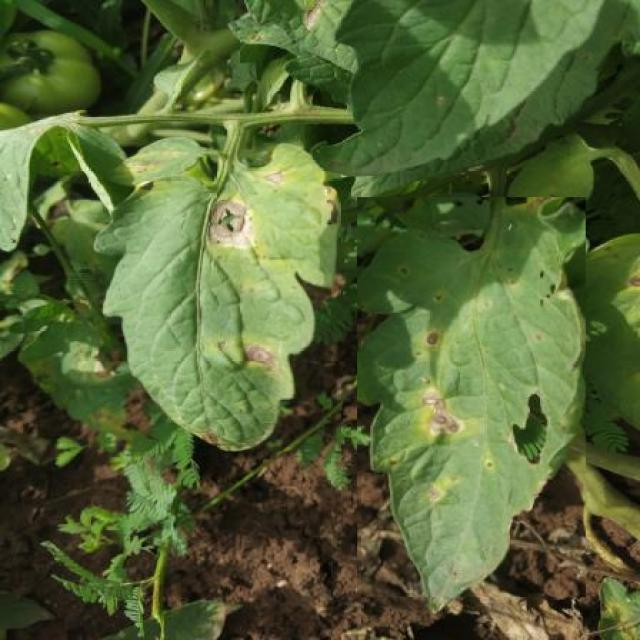Early Blight: (358, 198, 586, 598), (89, 140, 342, 451)
